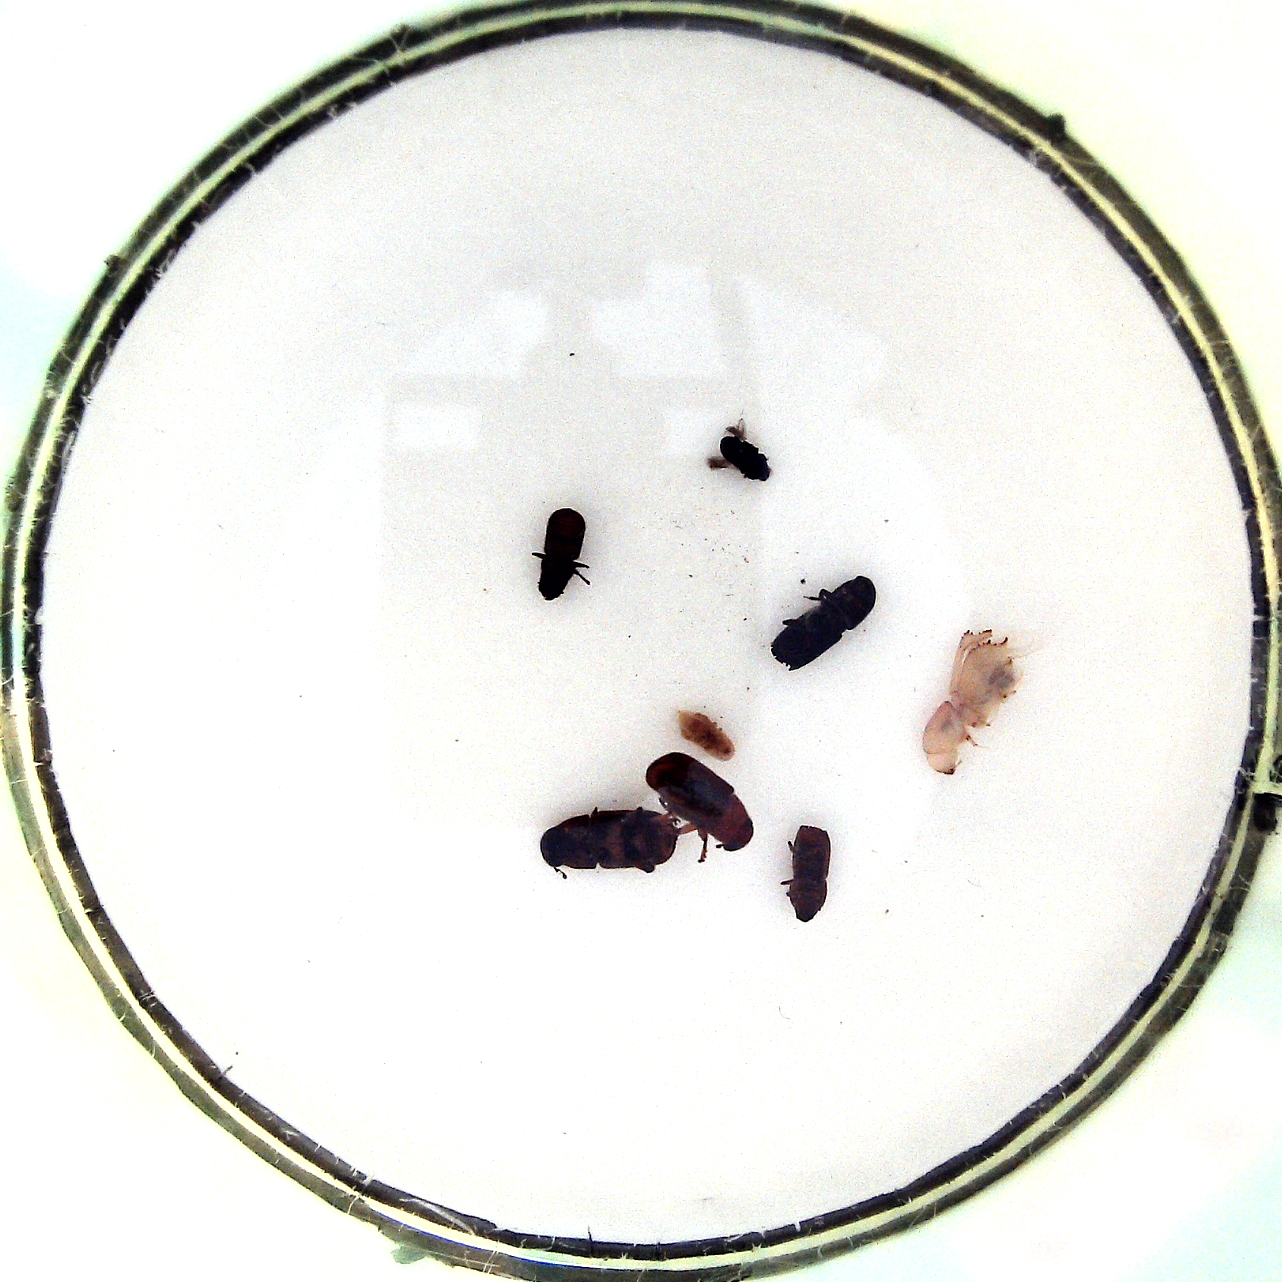Boerner: (917, 625, 1031, 777), (765, 572, 880, 674)
Leconte: (652, 754, 764, 851), (540, 807, 684, 877)
Linnaeus: (780, 825, 835, 925)
acuminatus: (674, 708, 741, 764)
armandi: (528, 505, 598, 600)
coleoptera: (706, 425, 771, 485)
